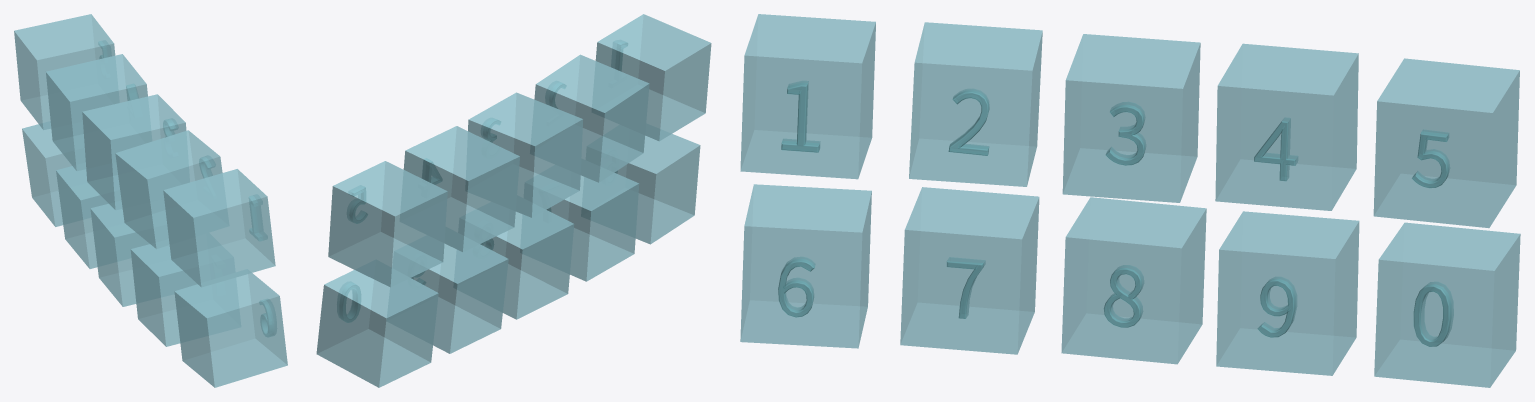
Rendered from morse code hologram puzzle hologram number buttons.fbx.
3 views of the same model, side by side, from view 1: azimuth 30°, elevation 25°; view 2: azimuth 150°, elevation 25°; view 3: azimuth 270°, elevation 25° (orthographic). The views are drawn at different scales.
Visible parts, largest first — view 1: acc50741-aa24-4294-b43d-24e553622d2a; view 2: acc50741-aa24-4294-b43d-24e553622d2a; view 3: acc50741-aa24-4294-b43d-24e553622d2a.
Part boxes in pixels (x1,y1,x2,y2): acc50741-aa24-4294-b43d-24e553622d2a: (14, 14, 287, 387); acc50741-aa24-4294-b43d-24e553622d2a: (316, 14, 711, 387); acc50741-aa24-4294-b43d-24e553622d2a: (740, 14, 1520, 387).
Size of the model in its own units: 10147 by 12009 by 29464.
